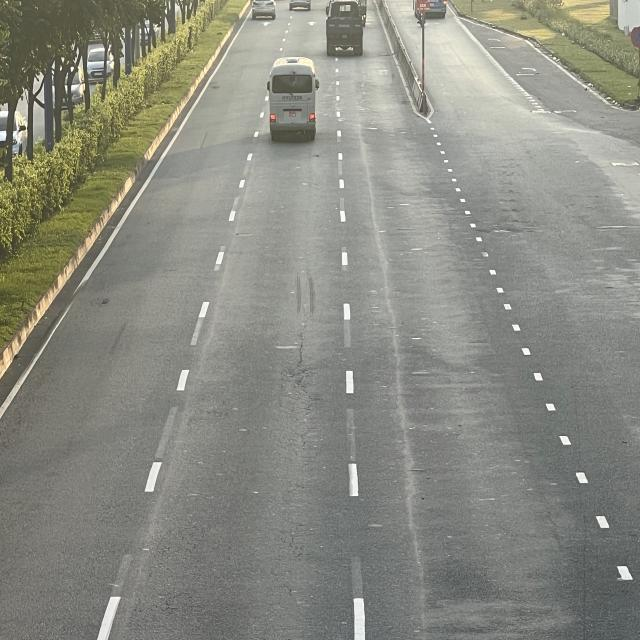coach: (269, 56, 321, 139)
truck: (327, 0, 367, 54)
